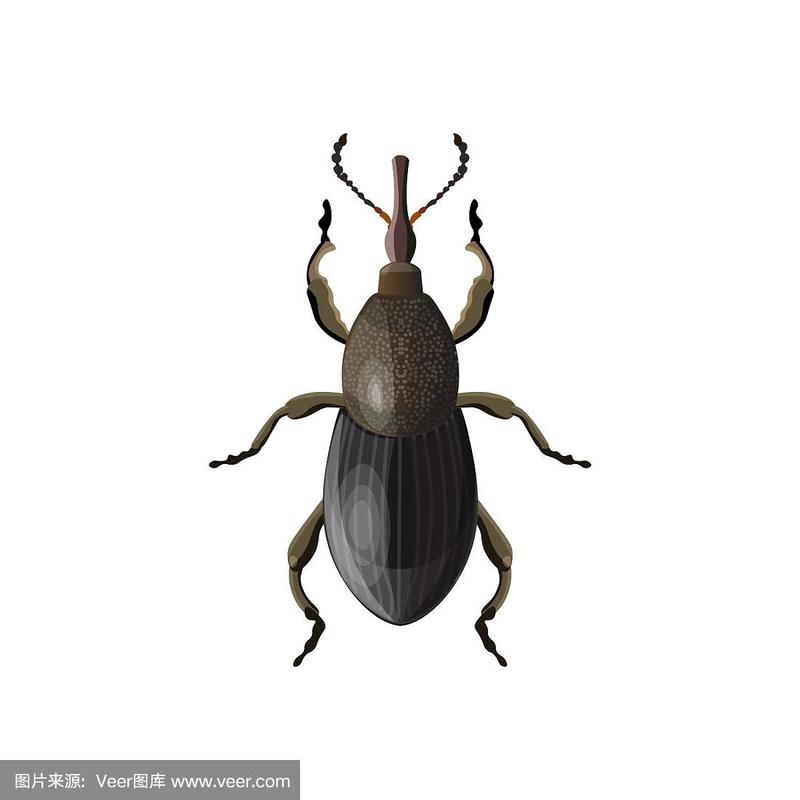Curculionidae: (209, 131, 592, 667)
